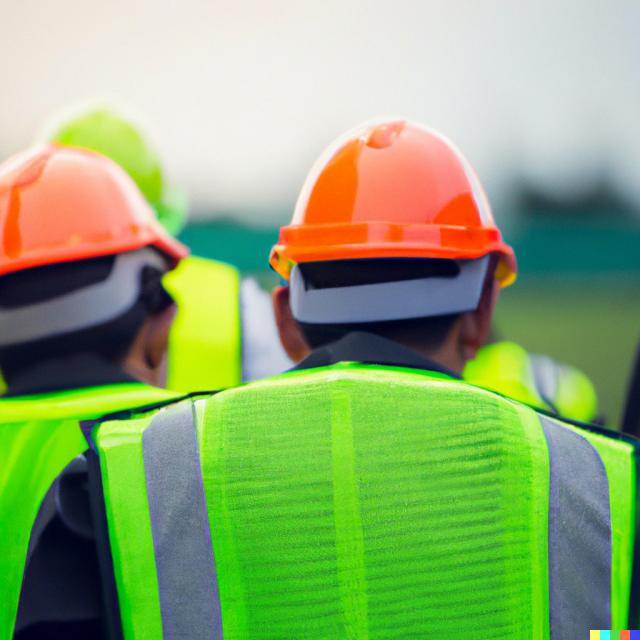Reflective-Jacket: (43, 369, 632, 636)
Safety-Helmet: (269, 116, 513, 276), (0, 122, 203, 294)
